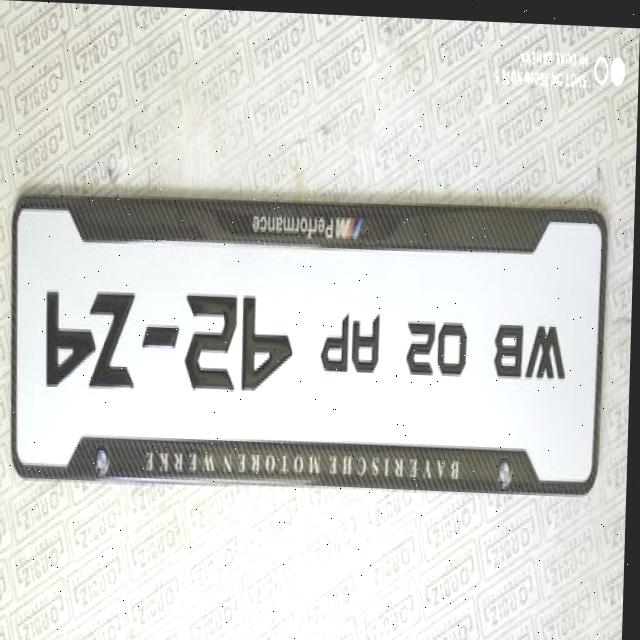plate: (9, 191, 608, 497)
